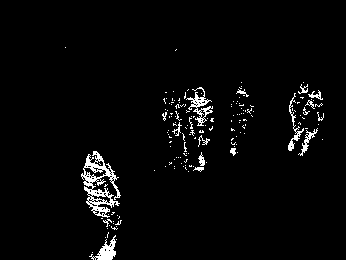person: (80, 151, 123, 260), (187, 87, 215, 172), (229, 83, 254, 156), (299, 90, 324, 156), (288, 83, 309, 152)
